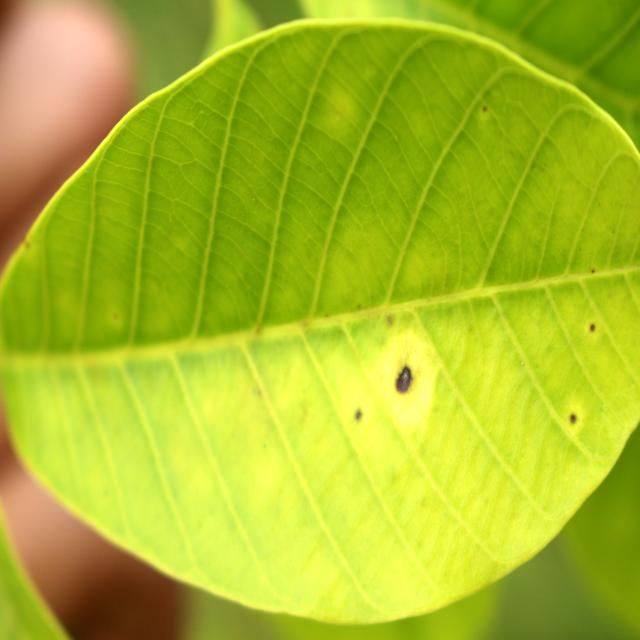Colletotrichum: (396, 366, 411, 393)
